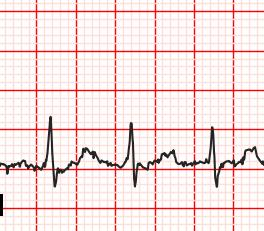ST Depression: (119, 159, 147, 189), (204, 154, 226, 191), (39, 162, 65, 191)
